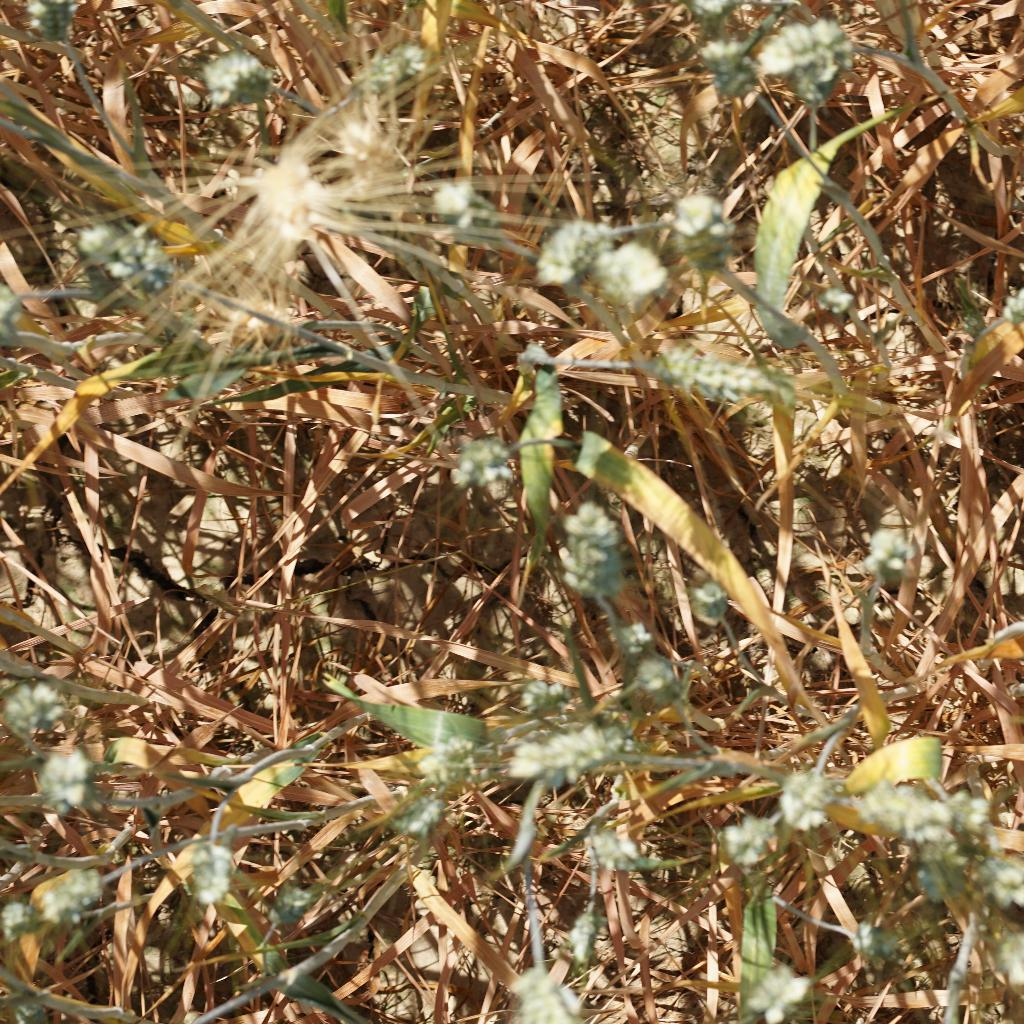0-0: (645, 342, 814, 413), (83, 206, 195, 302), (499, 948, 609, 1024), (257, 146, 339, 247), (340, 31, 453, 103), (657, 182, 748, 268), (763, 10, 854, 93), (561, 505, 631, 601), (19, 855, 122, 918), (852, 770, 945, 838), (26, 747, 112, 815), (515, 732, 642, 778), (735, 959, 818, 1024), (698, 32, 765, 111), (769, 759, 837, 836), (527, 215, 602, 283), (856, 512, 922, 587), (413, 169, 484, 234), (0, 664, 71, 727), (601, 240, 668, 305), (914, 836, 980, 900), (807, 262, 878, 320), (575, 825, 657, 875), (344, 115, 395, 194), (458, 429, 527, 486), (200, 53, 273, 105), (187, 837, 238, 911), (567, 901, 623, 967), (407, 736, 474, 791), (501, 668, 576, 717), (0, 897, 64, 953), (718, 815, 778, 871), (631, 650, 690, 705), (979, 843, 1024, 908), (393, 792, 448, 845), (851, 914, 907, 963), (258, 877, 314, 926), (938, 791, 998, 834), (23, 0, 83, 40), (991, 926, 1024, 987), (691, 580, 735, 624)
